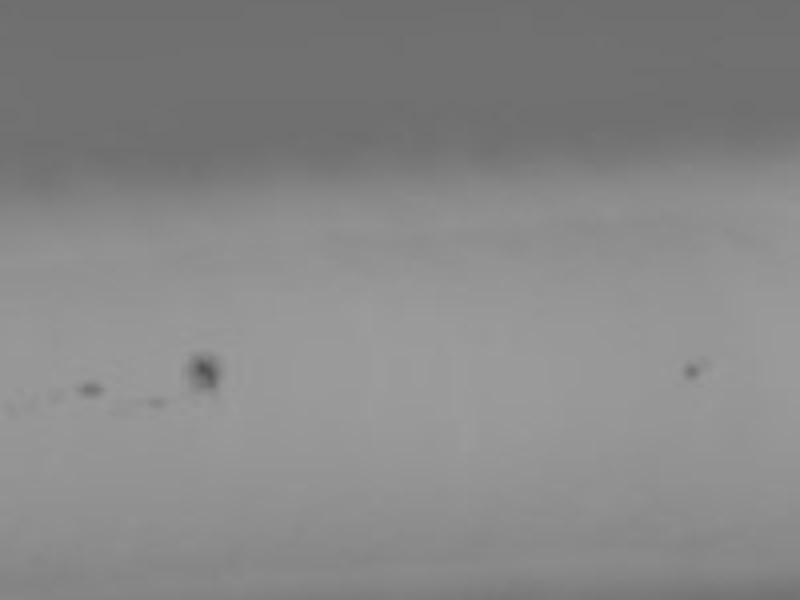defect: (185, 354, 227, 393), (681, 358, 707, 386), (77, 381, 108, 402), (148, 397, 173, 410)
